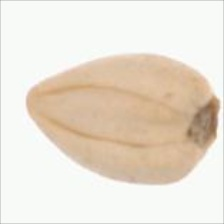L5: (37, 83, 190, 150), (187, 92, 223, 154), (20, 76, 46, 126)
L6: (24, 51, 221, 187)
